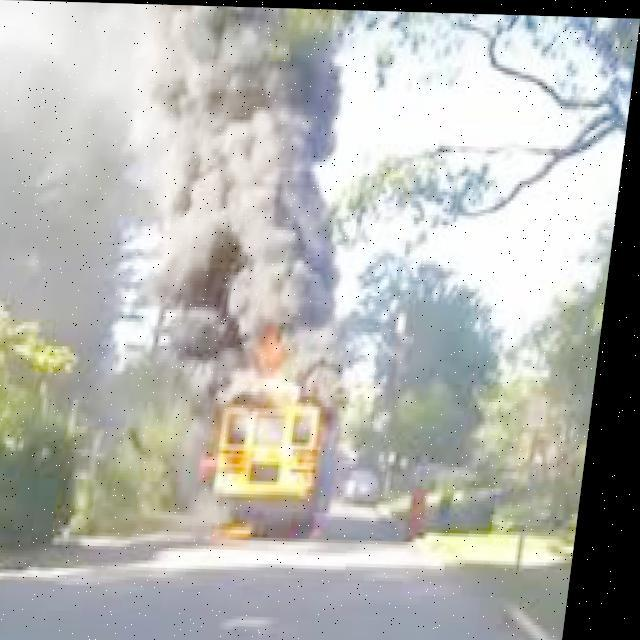Fire: (223, 316, 345, 402)
